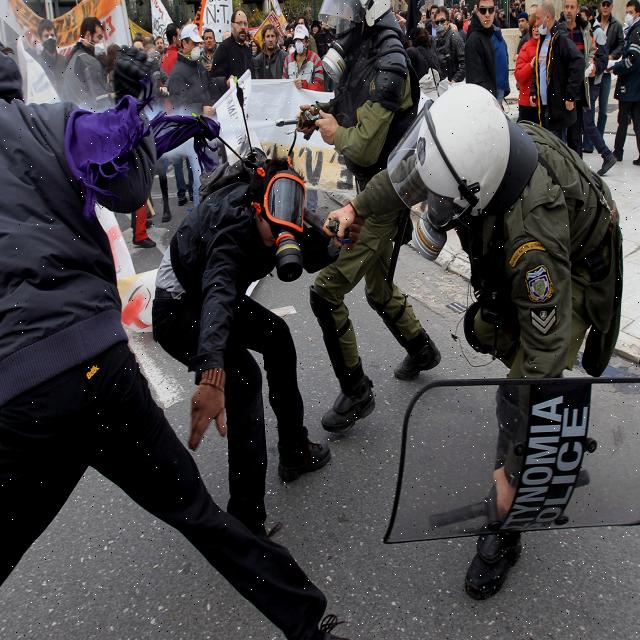police: (381, 47, 623, 640), (280, 0, 414, 458)
